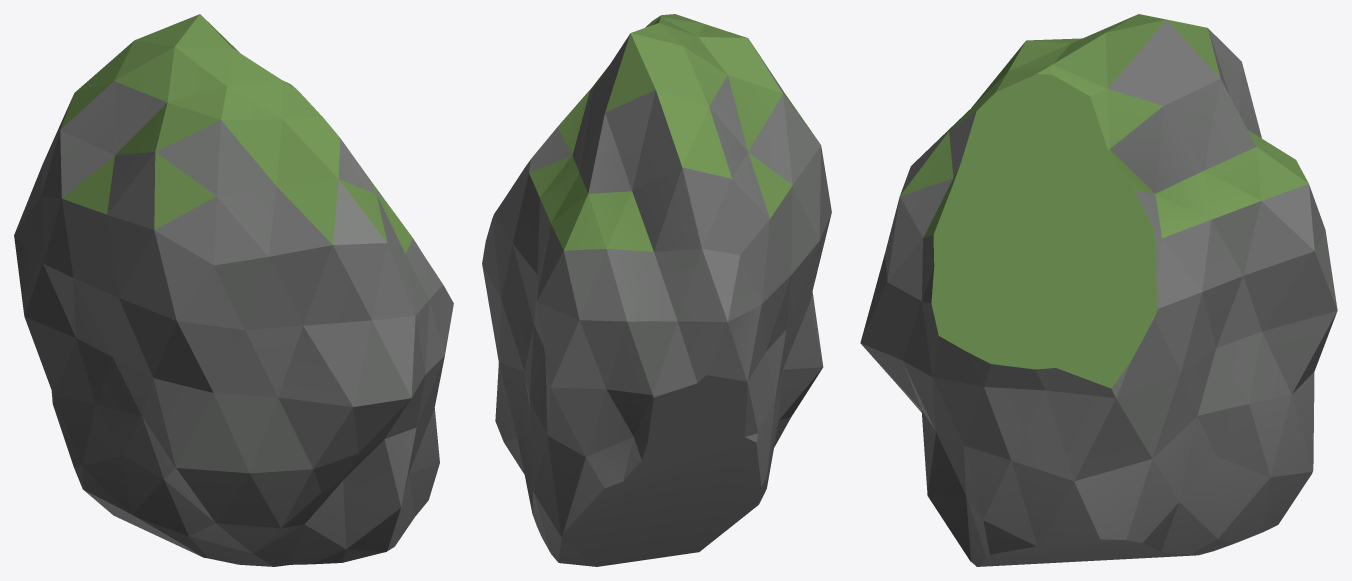
The model's file is obj_roca_grande_3.glb.
3 views of the same model, side by side, from view 1: azimuth 30°, elevation 25°; view 2: azimuth 150°, elevation 25°; view 3: azimuth 270°, elevation 25° (orthographic).
Parts seen in each view (by area): view 1: propforge-libre-roca_grande; view 2: propforge-libre-roca_grande; view 3: propforge-libre-roca_grande.
Boxes of the visible parts, box(x1,y1,x2,y2) form: propforge-libre-roca_grande: box(14, 14, 453, 566); propforge-libre-roca_grande: box(482, 14, 831, 566); propforge-libre-roca_grande: box(860, 14, 1337, 566).
Size of the model in its own units: 0.8945 by 1.32 by 1.14.
